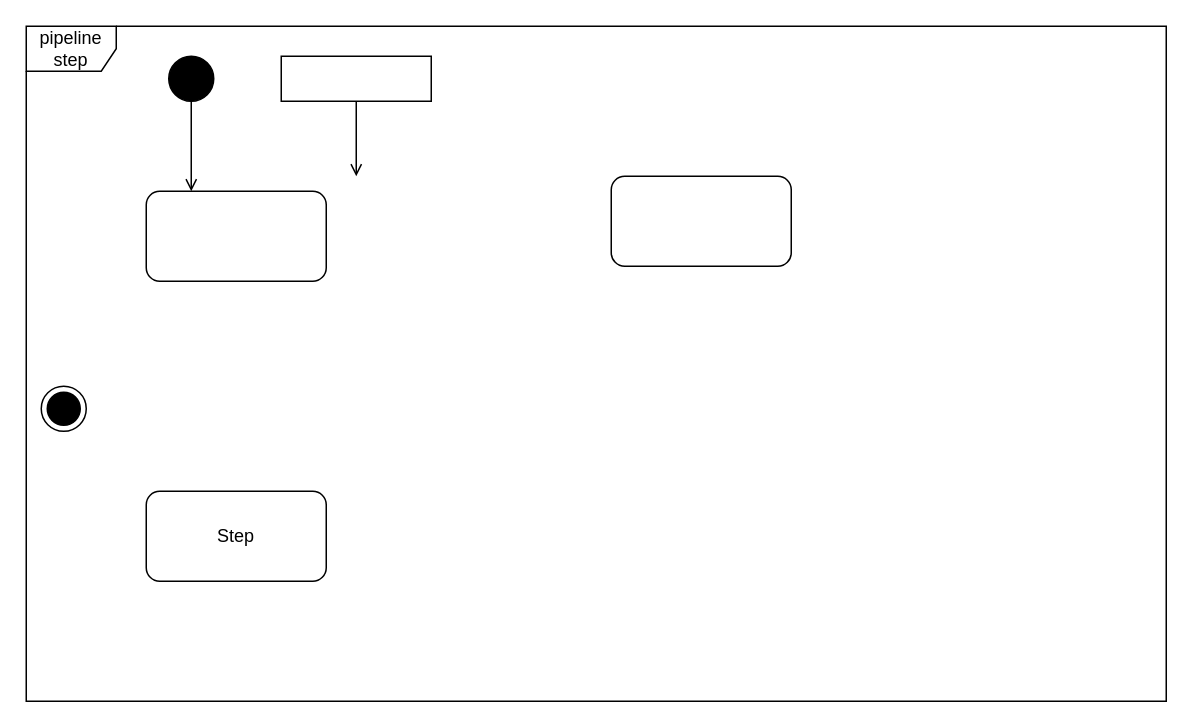
The diagram is 1193 pixels wide and 728 high, and some of its shapes have lost their labels. The shapes that lost their labels are listed below. From the top down, each one's centre as x and y in pixels, then its label:
At pixel 355 78: "<<datastore>>".
At pixel 235 235: "Load pipeline step".
